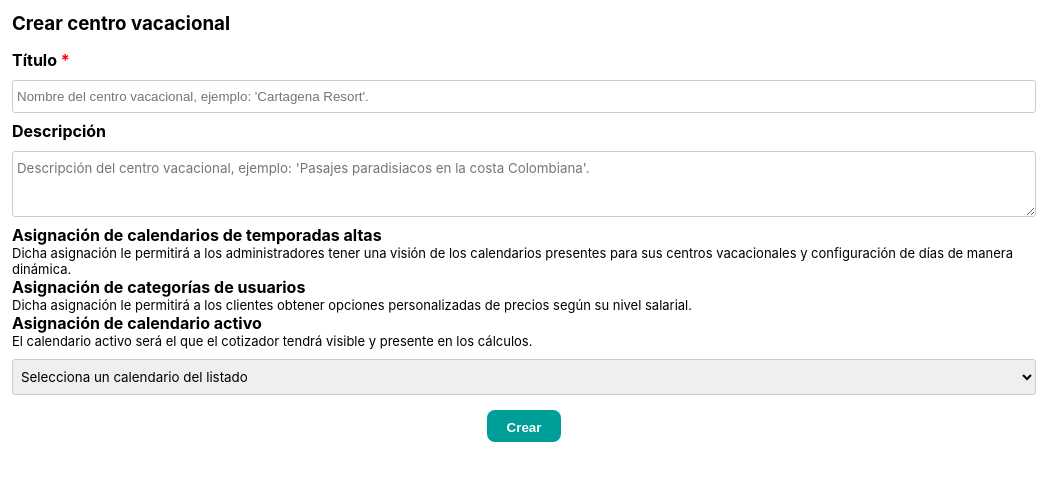
Test: CrearCentroVacacional test › Debería fallar al no tener los valores obligatorios presentes
Click the submit button: click(524, 426) [487,410,561,442]
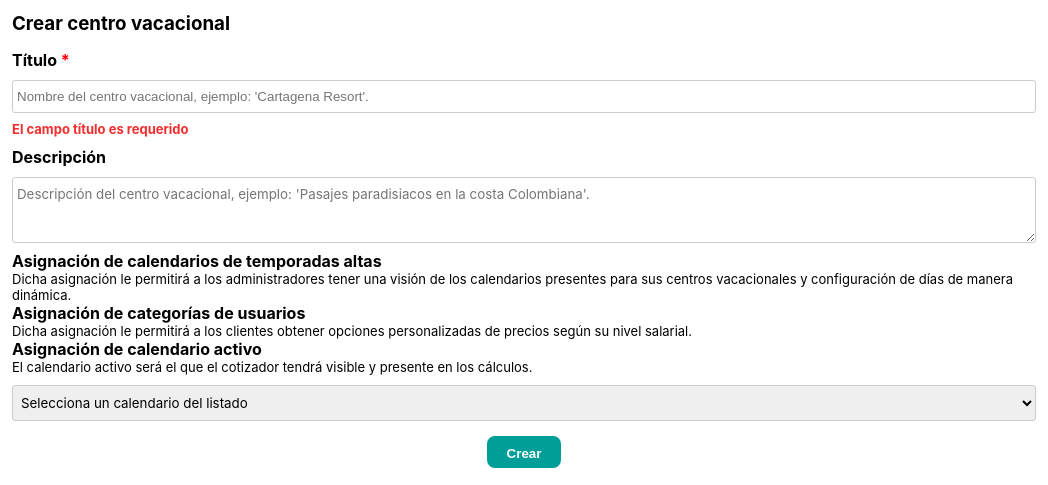
Now the text "El campo título es requerido" is shown, box [12,121,188,137]
